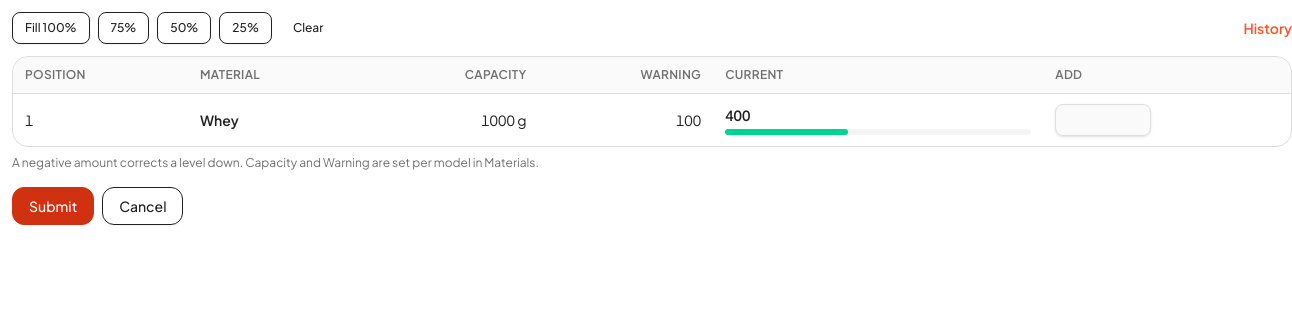
Test: MachineStockTab › asks for an amount before submitting nothing
This screenshot has width=1292, height=309.
Expected: the row with test id "row-slot-s1" is shown, [13, 94, 1291, 146]
What coordinates should you click on to do the following:
click the button with test id "button-submit-stock"
I would click on:
 (53, 206)
Its box is [12, 187, 94, 225].
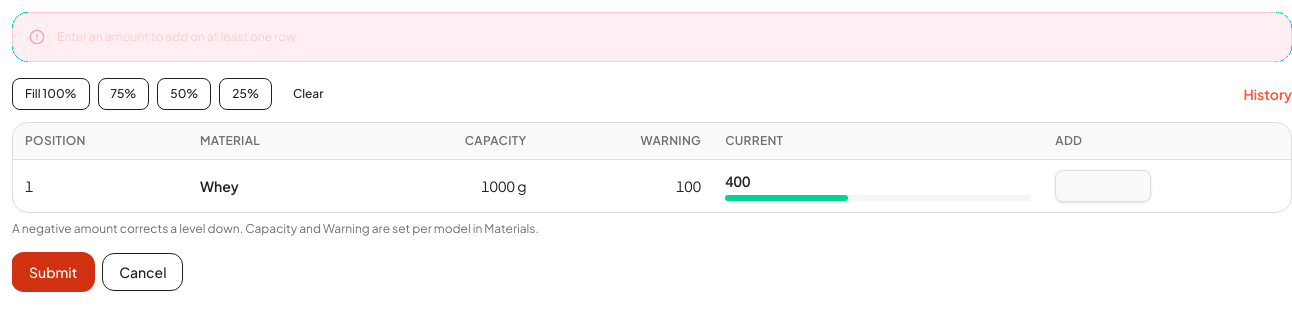
Expected: the message with test id "stock-error" shows "Enter an amount", [57, 29, 299, 44]
